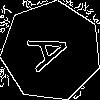A: (26, 26, 81, 74)
